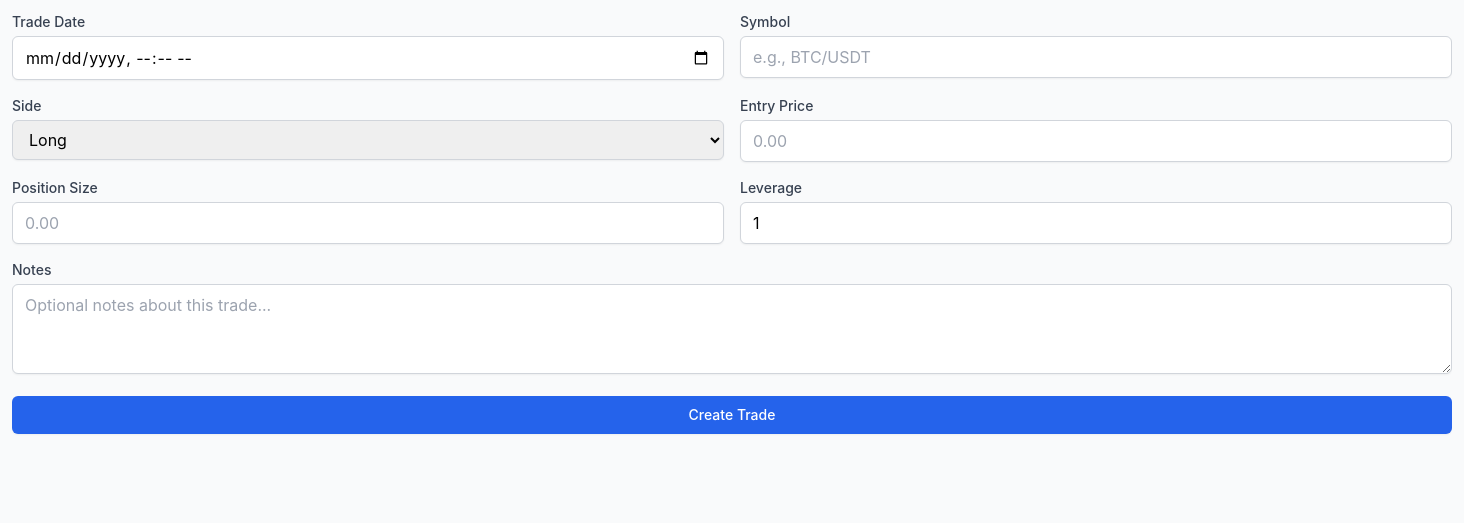
Test: TradeForm › should show validation error for invalid position size
In the number field labelled "Position Size": (368, 223) top-left (12, 202), bottom-right (724, 244), type "0"
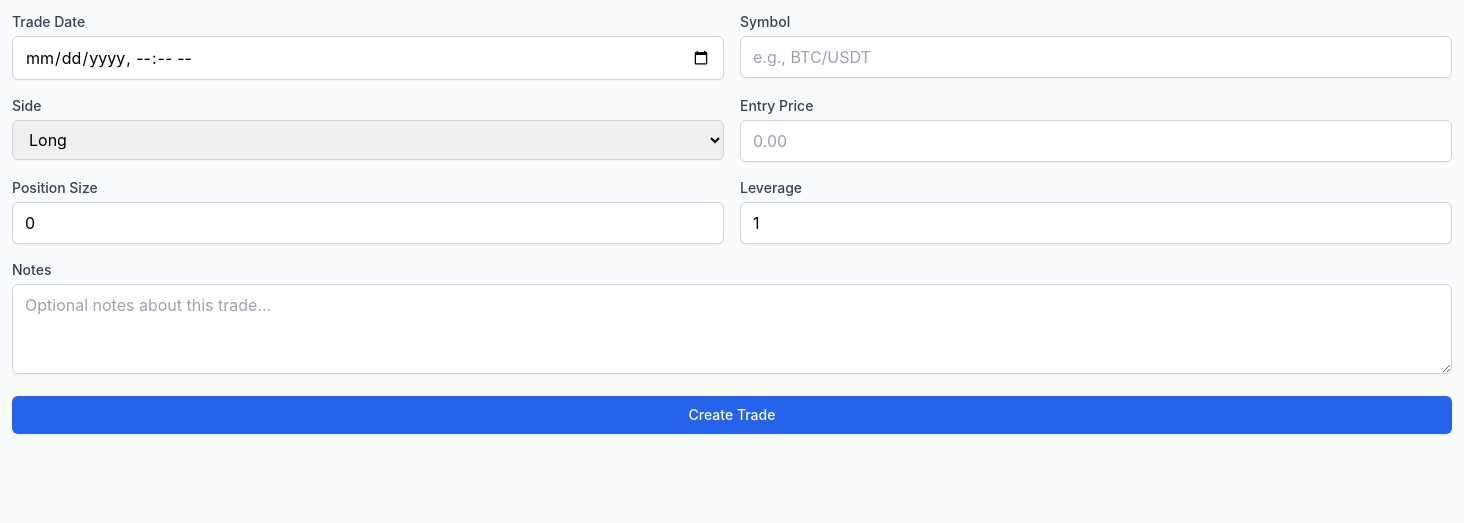
Click the button "Create Trade": (732, 415) top-left (12, 396), bottom-right (1452, 434)
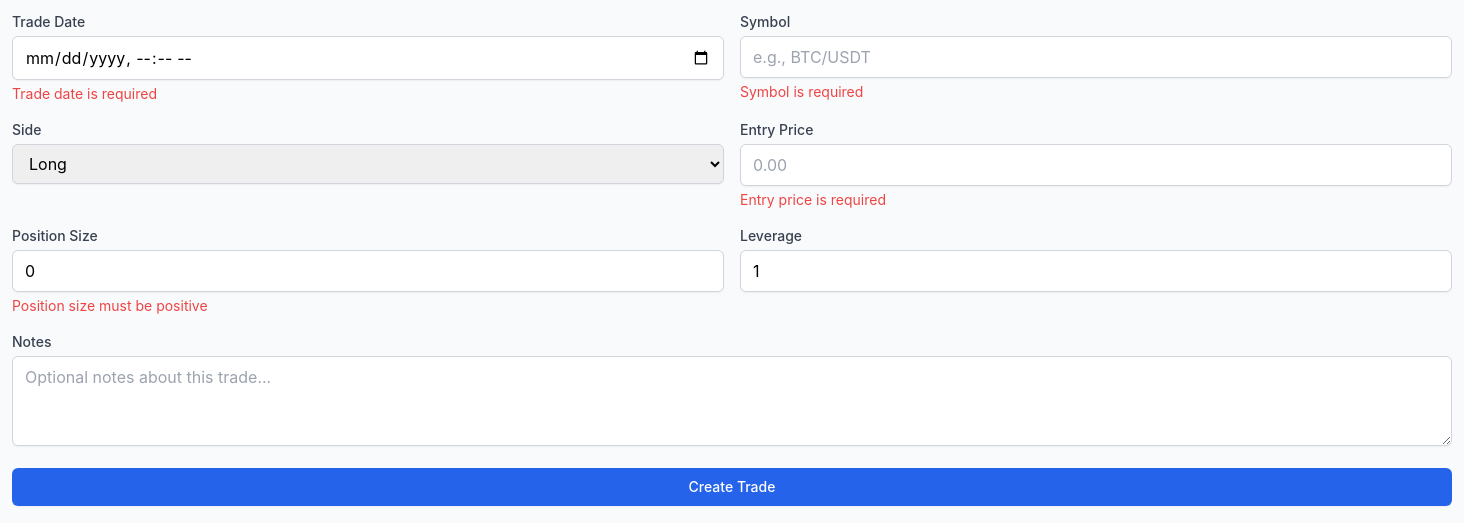
Check: the text "Position size must be positive" is shown, box top-left (12, 297), bottom-right (208, 314)
